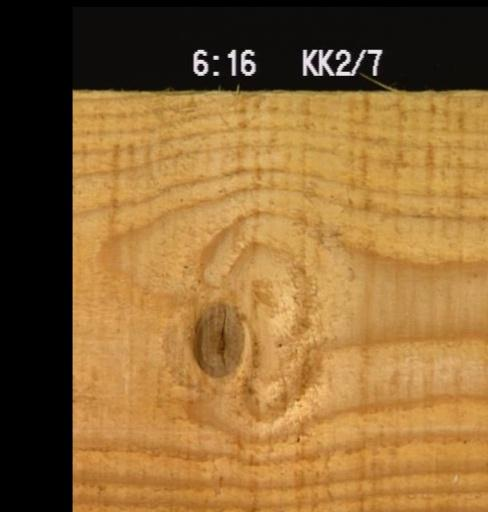sound_knot: (187, 298, 245, 379)
